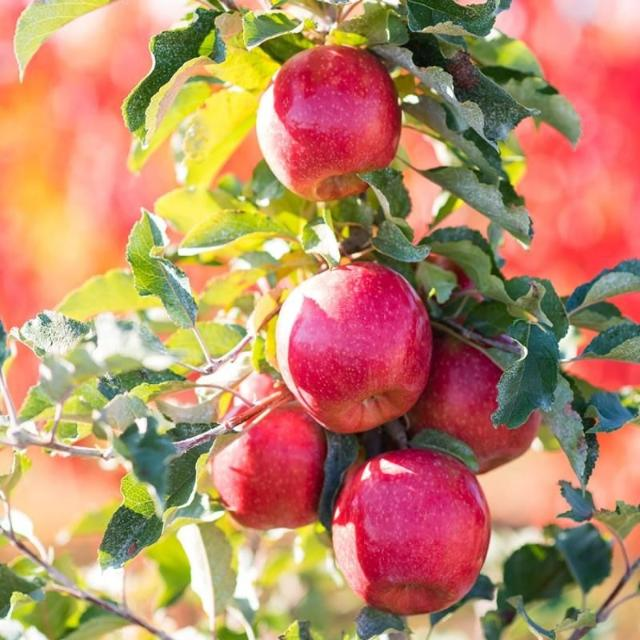Apple: (276, 262, 432, 434), (332, 449, 490, 615), (256, 45, 401, 209), (408, 335, 540, 472), (211, 406, 326, 529)
